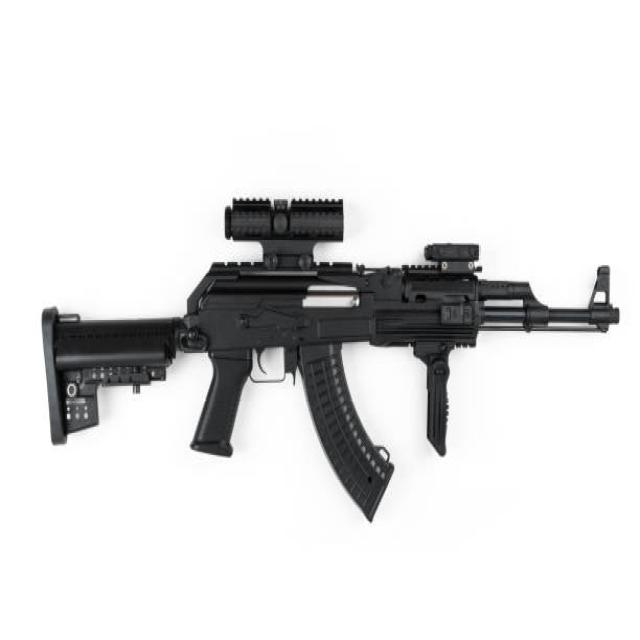rifle: (38, 185, 622, 534)
